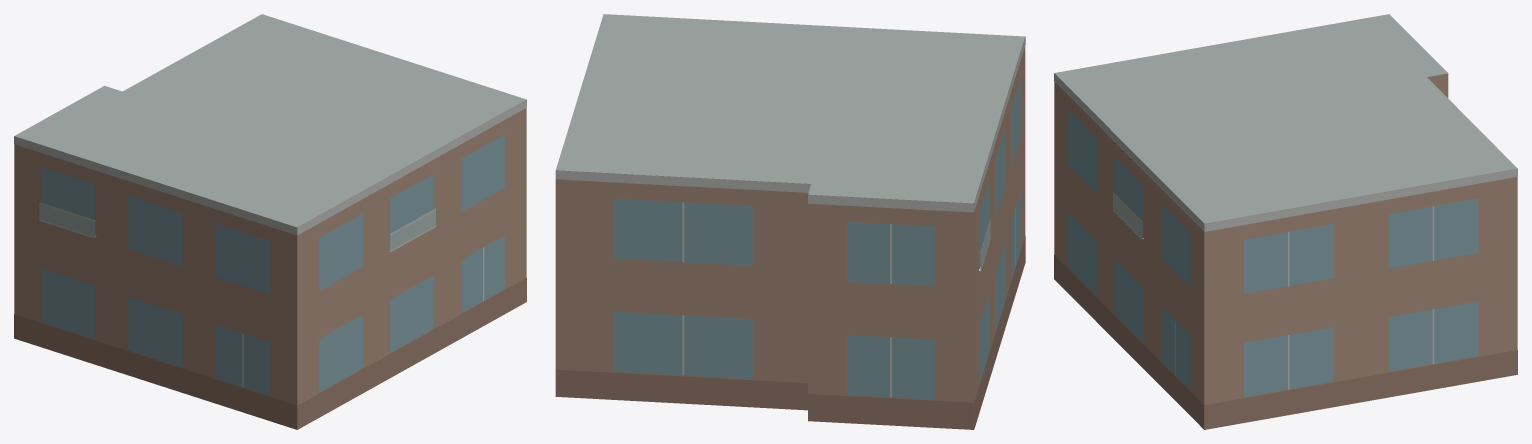
Rendered from survey-upis-32935415.glb.
3 views of the same model, side by side, from view 1: azimuth 30°, elevation 25°; view 2: azimuth 150°, elevation 25°; view 3: azimuth 270°, elevation 25° (orthographic). The views are drawn at different scales.
Visible parts, largest first — view 1: survey-upis-32935415.tmp; view 2: survey-upis-32935415.tmp; view 3: survey-upis-32935415.tmp.
Boxes of the visible parts, left/top/right/bottom form: survey-upis-32935415.tmp: left=14, top=14, right=526, bottom=429; survey-upis-32935415.tmp: left=555, top=14, right=1025, bottom=429; survey-upis-32935415.tmp: left=1054, top=14, right=1517, bottom=429.
Size of the model in its own units: 13.32 by 6.1 by 12.44.
